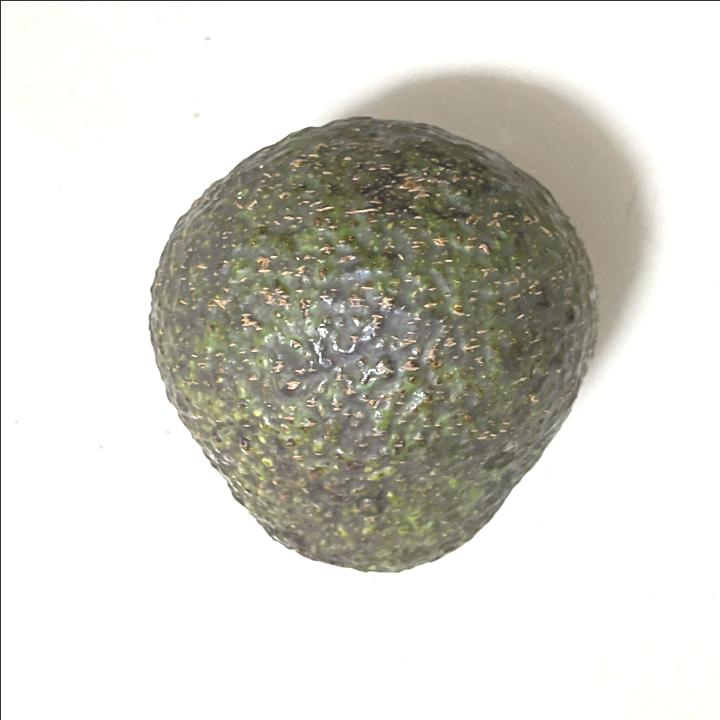Level1: (136, 107, 608, 586)
